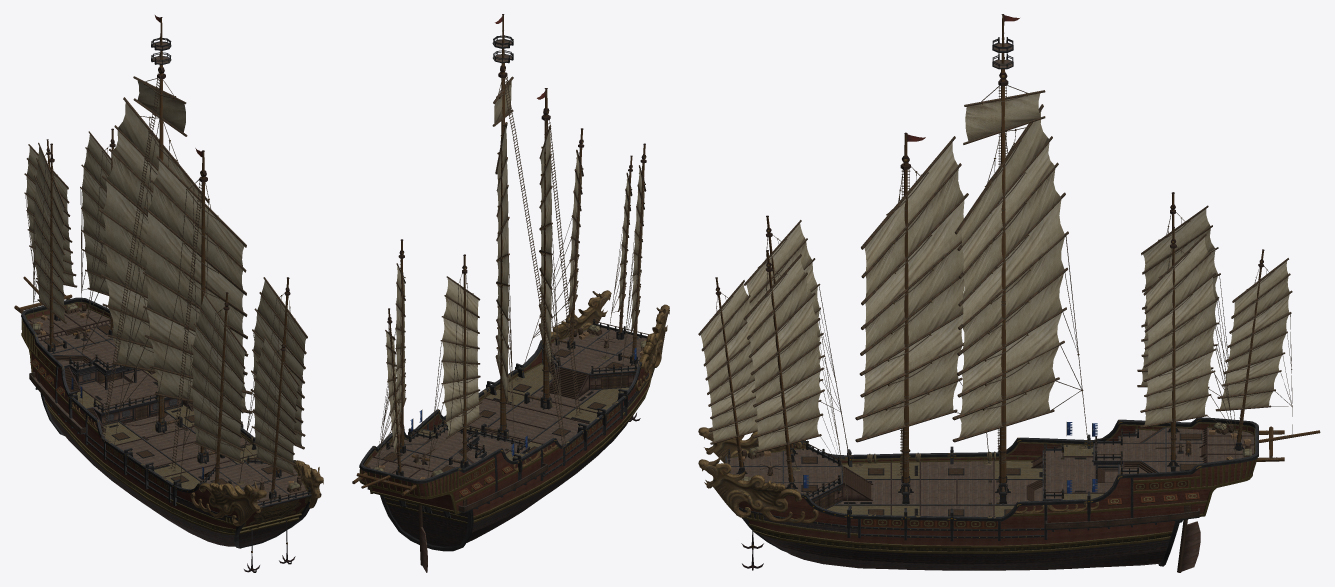
File: boat.fbx
The picture shows the model from 3 angles, left to right: view 1: azimuth 30°, elevation 25°; view 2: azimuth 150°, elevation 25°; view 3: azimuth 270°, elevation 25°; orthographic projection. The views are drawn at different scales.
Parts seen in each view (by area): view 1: 3d66-Editable_Poly-20499143-001, 3d66-Editable_Poly-20499143-007, 3d66-Editable_Poly-20499143-008, 3d66-Editable_Poly-20499143-006, 3d66-Editable_Poly-20499143-003, 3d66-Editable_Poly-20499143-005; view 2: 3d66-Editable_Poly-20499143-001, 3d66-Editable_Poly-20499143-007, 3d66-Editable_Poly-20499143-008, 3d66-Editable_Poly-20499143-006, 3d66-Editable_Poly-20499143-003, 3d66-Editable_Poly-20499143-005; view 3: 3d66-Editable_Poly-20499143-001, 3d66-Editable_Poly-20499143-008, 3d66-Editable_Poly-20499143-007, 3d66-Editable_Poly-20499143-006, 3d66-Editable_Poly-20499143-003, 3d66-Editable_Poly-20499143-005.
Boxes of the visible parts, x1,y1,x2,y2 form: 3d66-Editable_Poly-20499143-001: [24, 15, 307, 493]; 3d66-Editable_Poly-20499143-007: [21, 297, 311, 548]; 3d66-Editable_Poly-20499143-008: [21, 302, 311, 551]; 3d66-Editable_Poly-20499143-006: [29, 303, 323, 526]; 3d66-Editable_Poly-20499143-003: [47, 38, 281, 499]; 3d66-Editable_Poly-20499143-005: [14, 276, 301, 572]; 3d66-Editable_Poly-20499143-001: [374, 14, 646, 480]; 3d66-Editable_Poly-20499143-007: [359, 318, 654, 551]; 3d66-Editable_Poly-20499143-008: [359, 321, 653, 565]; 3d66-Editable_Poly-20499143-006: [366, 290, 669, 572]; 3d66-Editable_Poly-20499143-003: [386, 35, 637, 476]; 3d66-Editable_Poly-20499143-005: [352, 324, 642, 496]; 3d66-Editable_Poly-20499143-001: [698, 14, 1292, 506]; 3d66-Editable_Poly-20499143-008: [727, 422, 1257, 572]; 3d66-Editable_Poly-20499143-007: [725, 417, 1258, 566]; 3d66-Editable_Poly-20499143-006: [698, 417, 1251, 571]; 3d66-Editable_Poly-20499143-003: [736, 37, 1243, 504]; 3d66-Editable_Poly-20499143-005: [741, 421, 1320, 570].
Bounding box in the file's own units: 2505 × 9227 × 9335.
